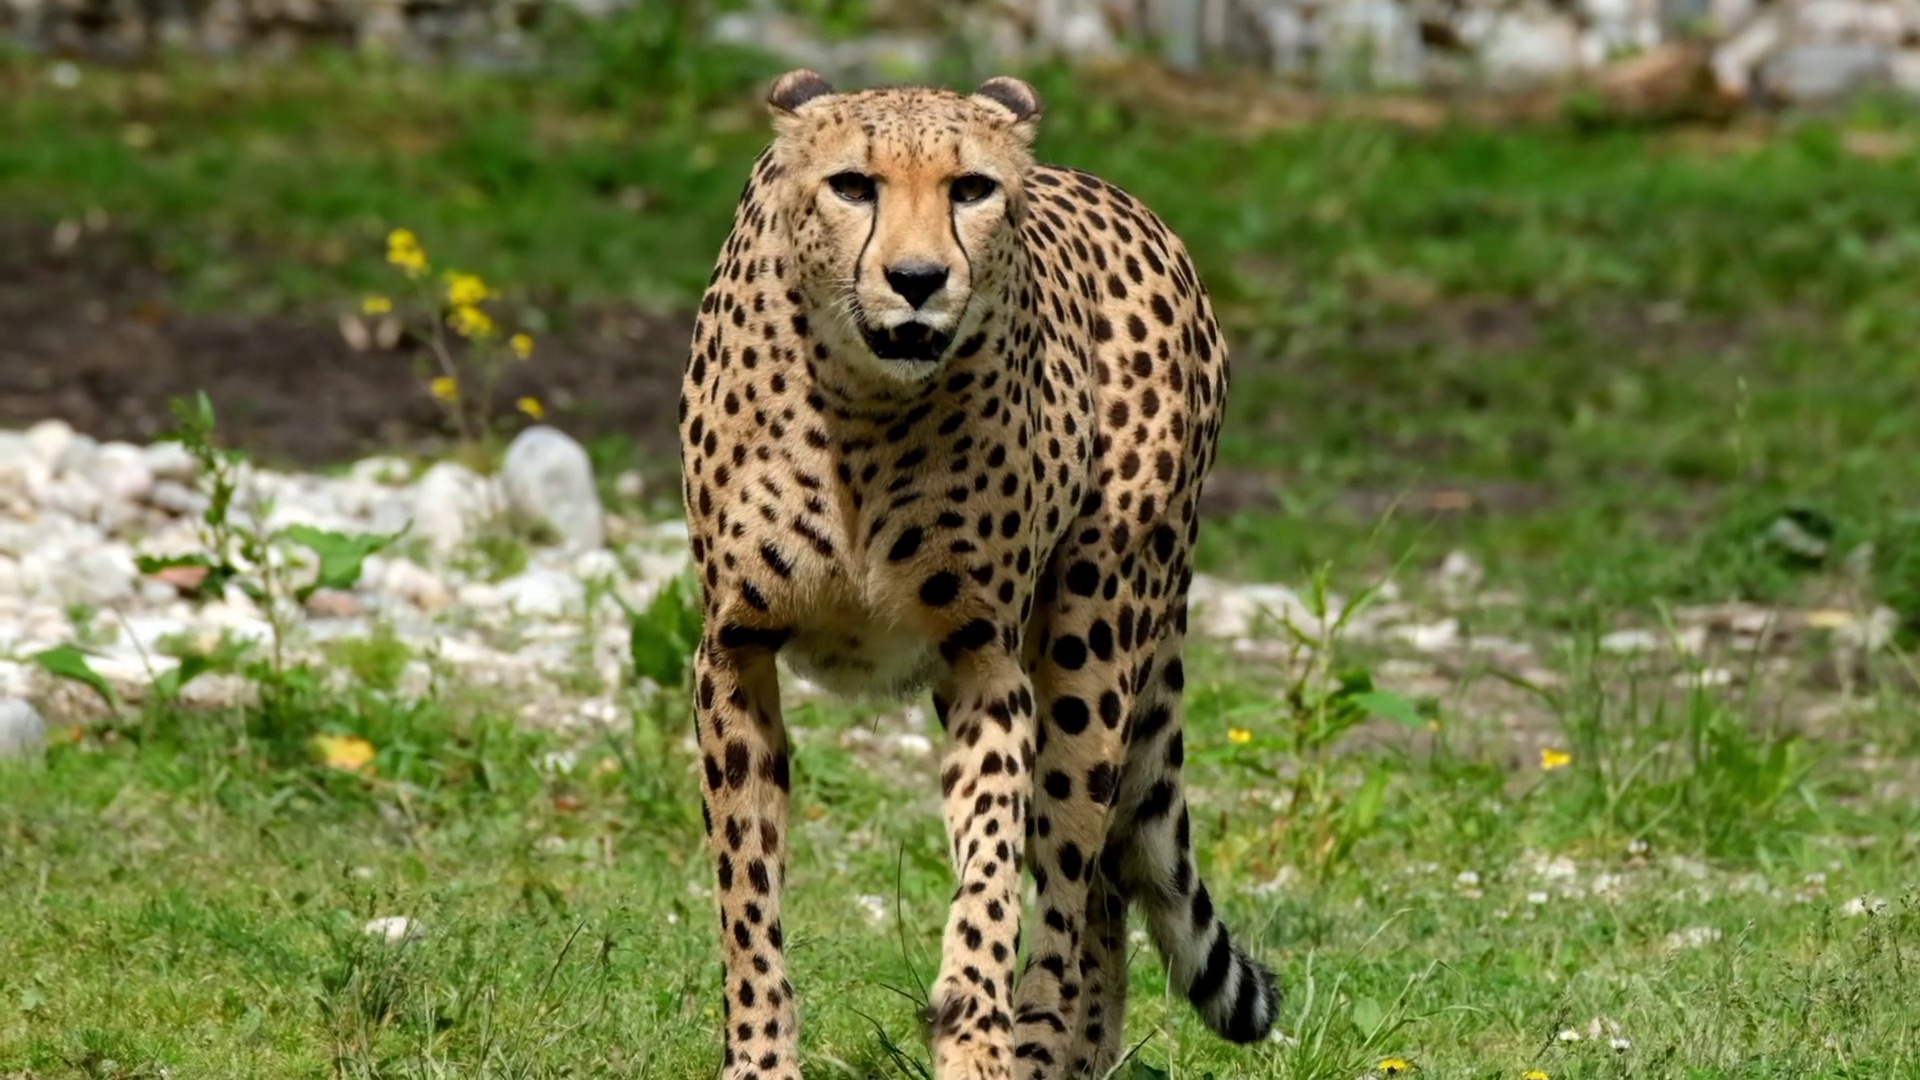Cheetah: (669, 59, 1287, 1080)
